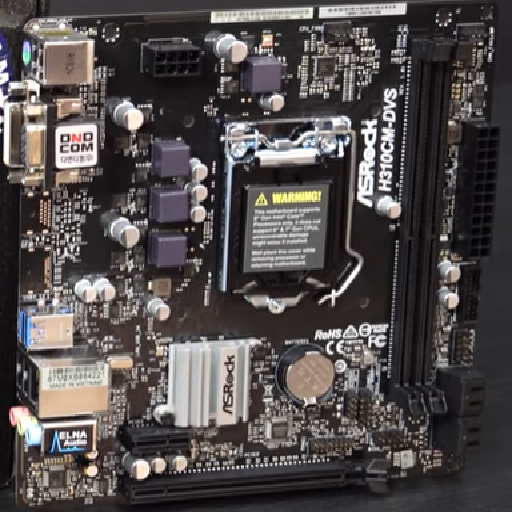CPU: (214, 110, 351, 307)
GPU: (127, 451, 389, 505)
MOTHERBOARD: (1, 4, 499, 509)
RAM: (385, 33, 458, 418)
